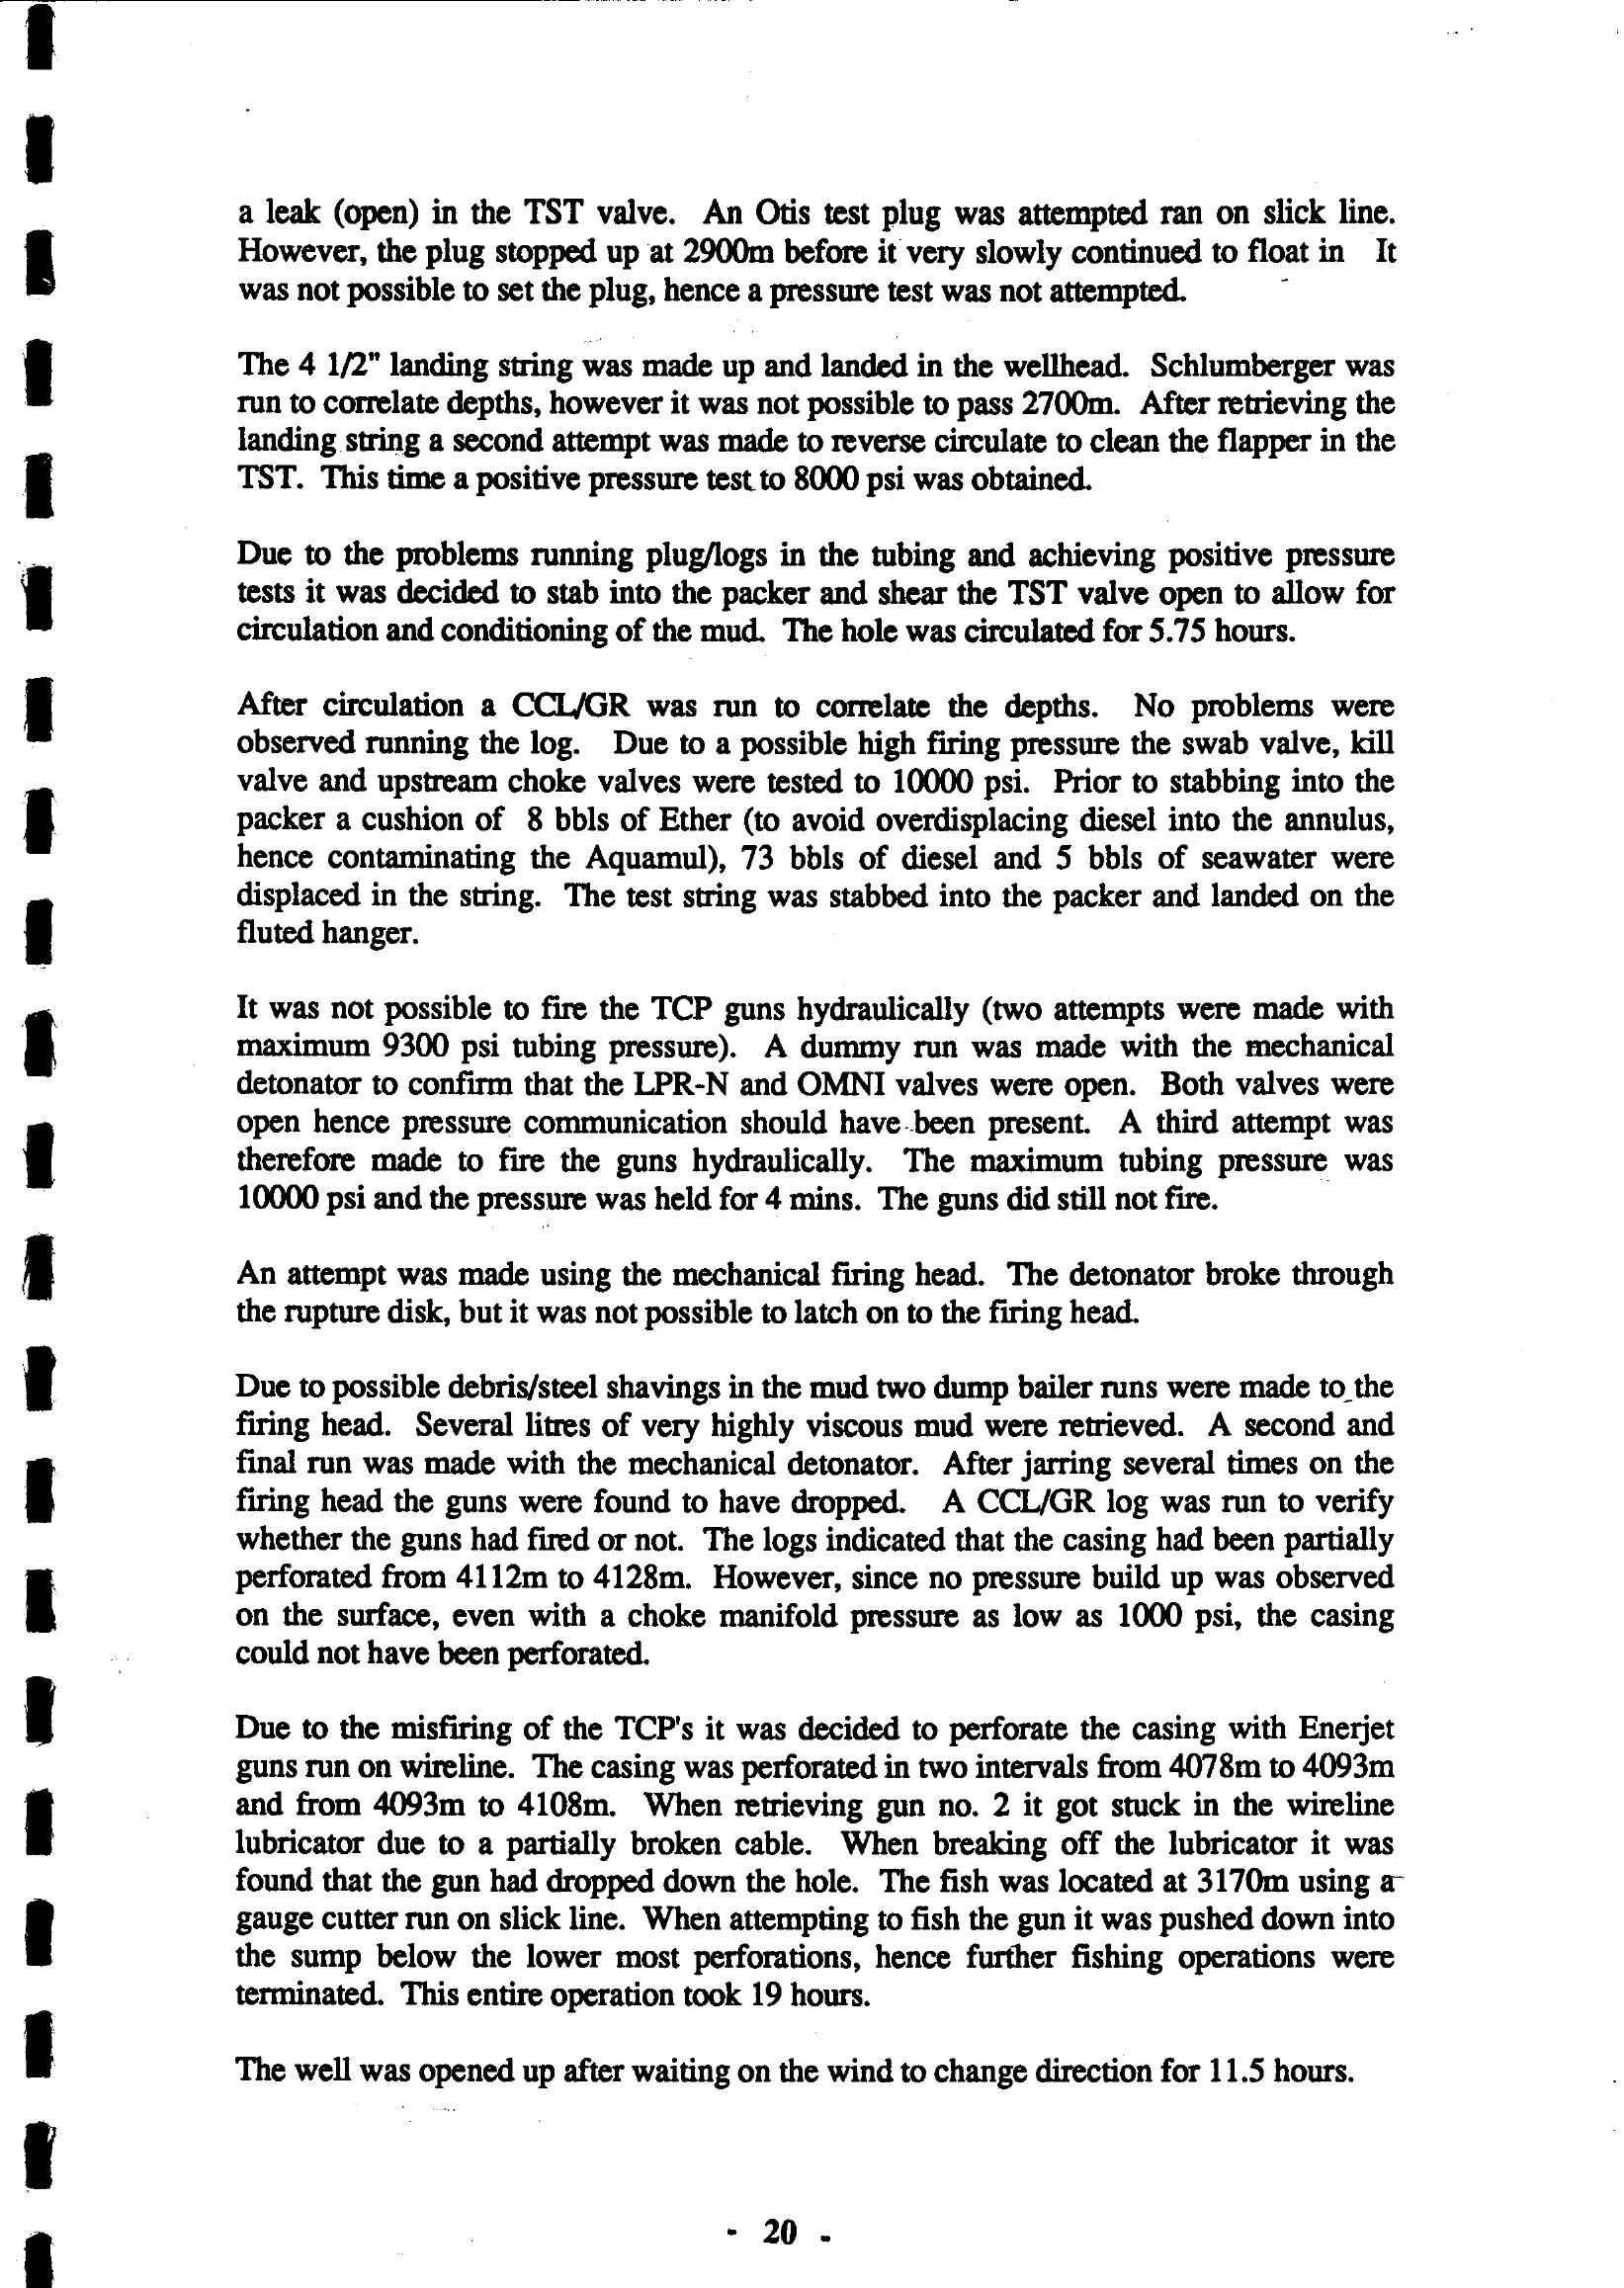text: (172, 170, 1429, 2116)
